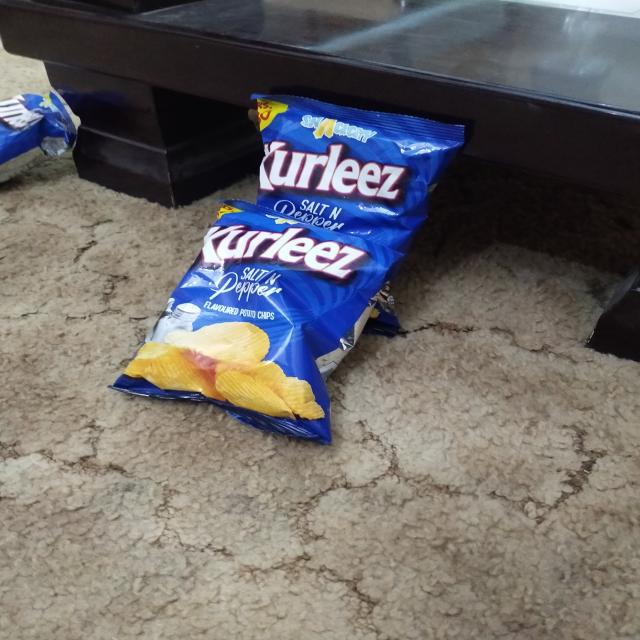Plastic: (107, 233, 410, 448), (252, 88, 475, 214)
